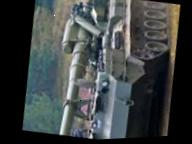sau: (34, 0, 190, 142)
